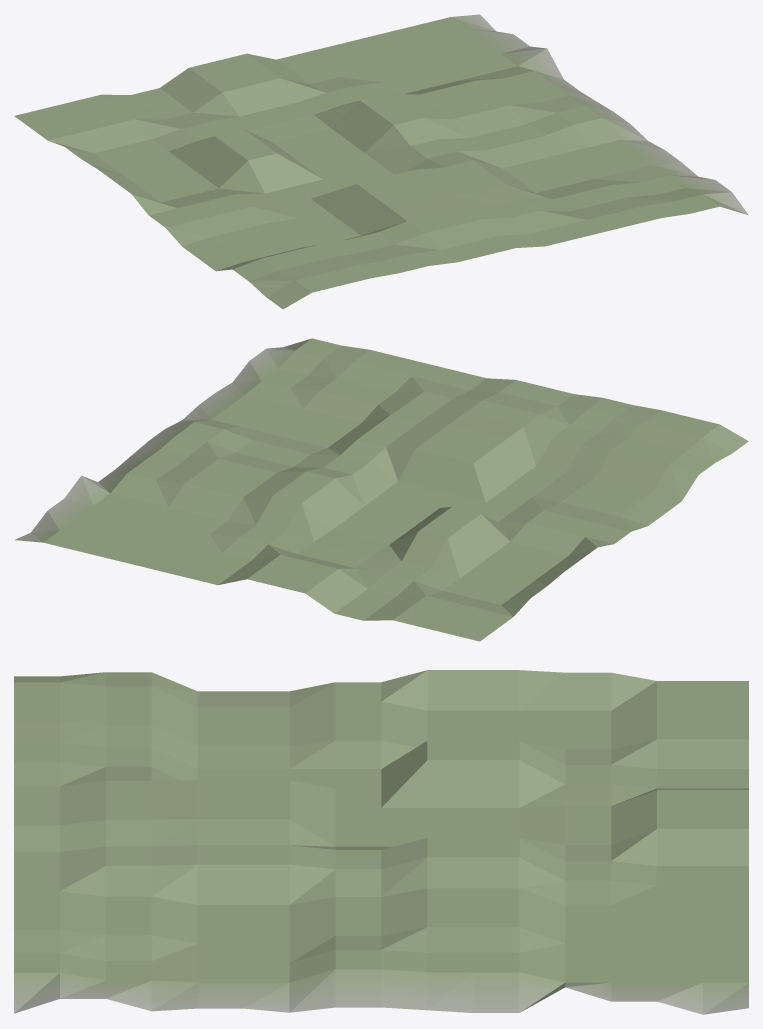
The picture shows the model from 3 angles, top to bottom: view 1: azimuth 30°, elevation 25°; view 2: azimuth 150°, elevation 25°; view 3: azimuth 270°, elevation 25°; orthographic projection. The views are drawn at different scales.
Size of the model in its own units: 32 by 1.98 by 32.
